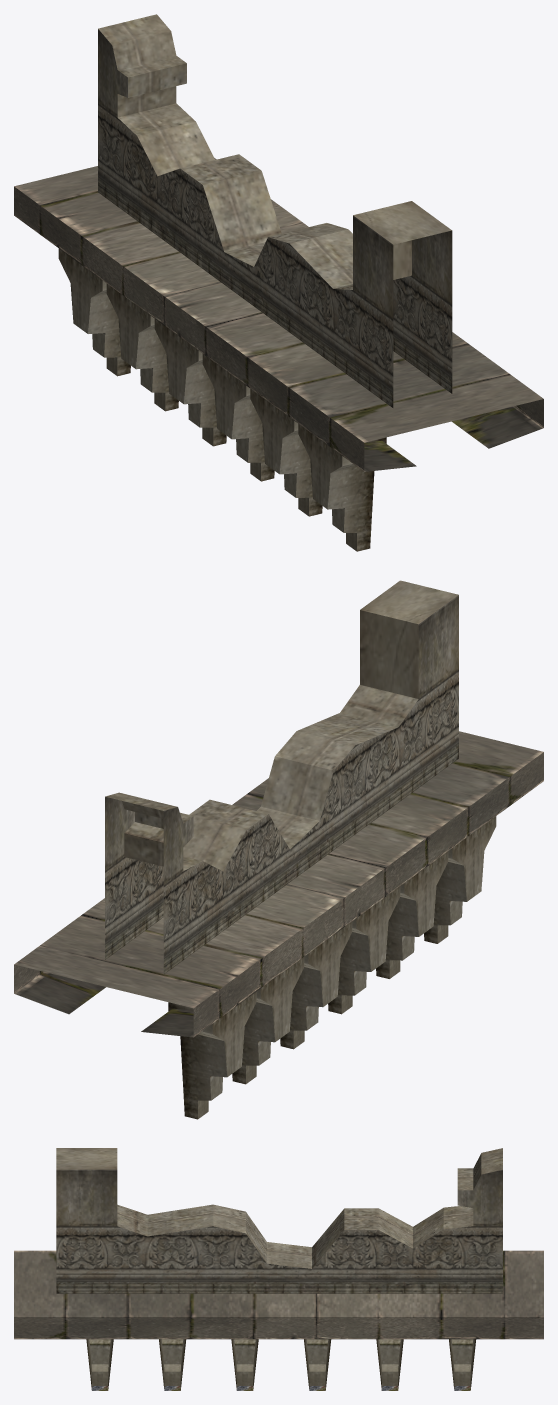
The model's file is SM_EN_2005_qiang0104.FBX.
3 renders of one model, top to bottom at view 1: azimuth 30°, elevation 25°; view 2: azimuth 150°, elevation 25°; view 3: azimuth 270°, elevation 25°, orthographic. The views are drawn at different scales.
Visible parts, largest first — view 1: SM_EN_2005_qiang0104; view 2: SM_EN_2005_qiang0104; view 3: SM_EN_2005_qiang0104.
Boxes of the visible parts, box(x1,y1,x2,y2) form: SM_EN_2005_qiang0104: box(14, 14, 543, 551); SM_EN_2005_qiang0104: box(14, 580, 543, 1119); SM_EN_2005_qiang0104: box(14, 1148, 543, 1390).
Size of the model in its own units: 70.85 by 121 by 239.
